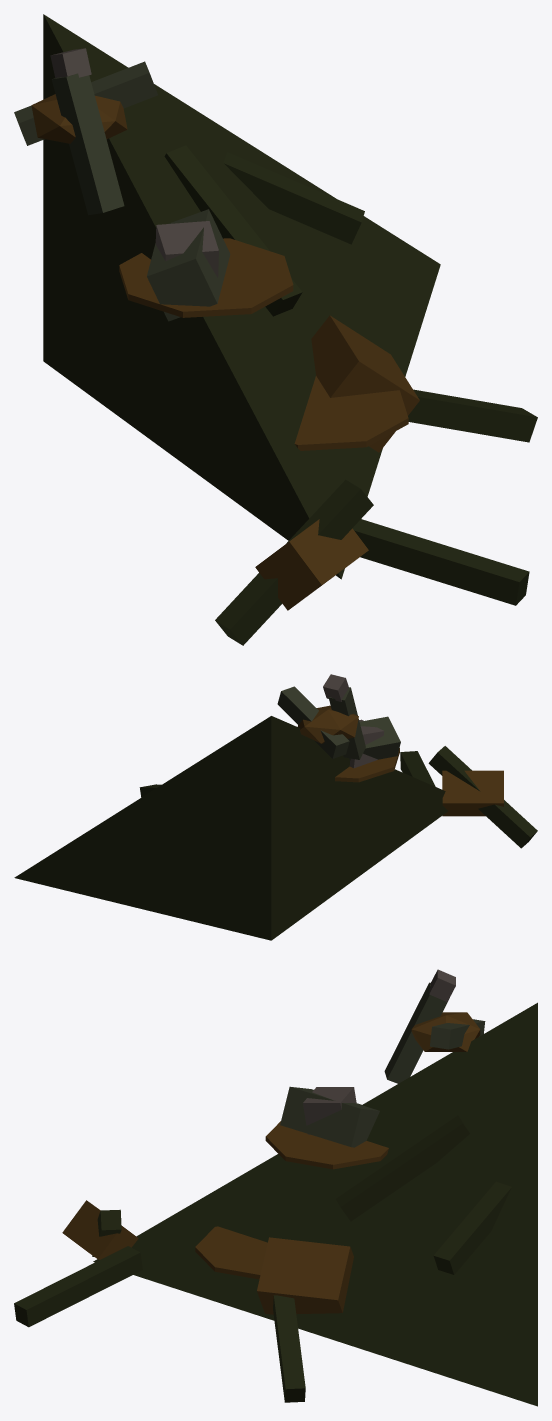
Rendered from SM_PilaZombi_RemateDer_Altura3_s1_LOD1.fbx.
3 renders of one model, top to bottom at view 1: azimuth 30°, elevation 25°; view 2: azimuth 150°, elevation 25°; view 3: azimuth 270°, elevation 25°, orthographic. The views are drawn at different scales.
Parts seen in each view (by area): view 1: SM_pila_zombis_v7_LOD1; view 2: SM_pila_zombis_v7_LOD1; view 3: SM_pila_zombis_v7_LOD1.
Part boxes in pixels (x1,y1,x2,y2): SM_pila_zombis_v7_LOD1: (14,14,537,645); SM_pila_zombis_v7_LOD1: (14,674,537,940); SM_pila_zombis_v7_LOD1: (14,969,537,1406).
Bounding box in the file's own units: 2.62 × 2.01 × 3.11.
